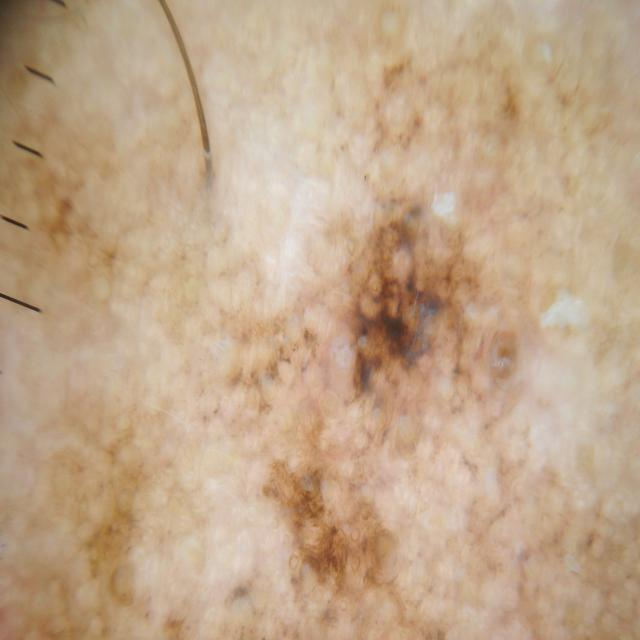Melanoma: (176, 107, 635, 640)
